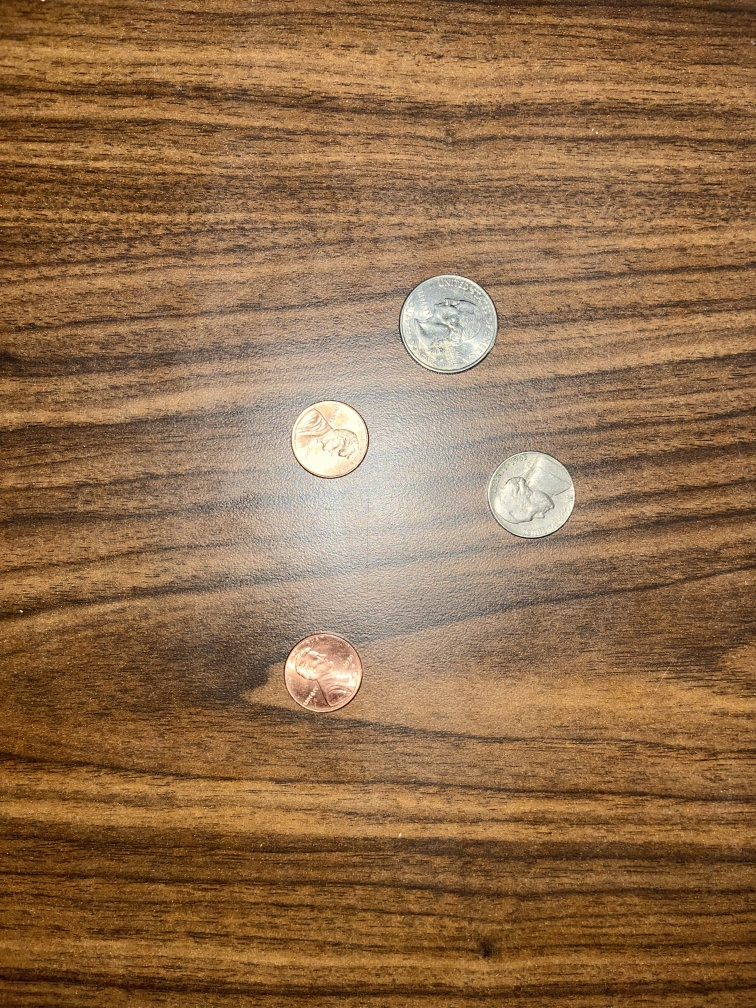nickel: (478, 450, 580, 546)
penny: (282, 395, 375, 484), (279, 631, 365, 721)
quarter: (397, 269, 503, 381)
